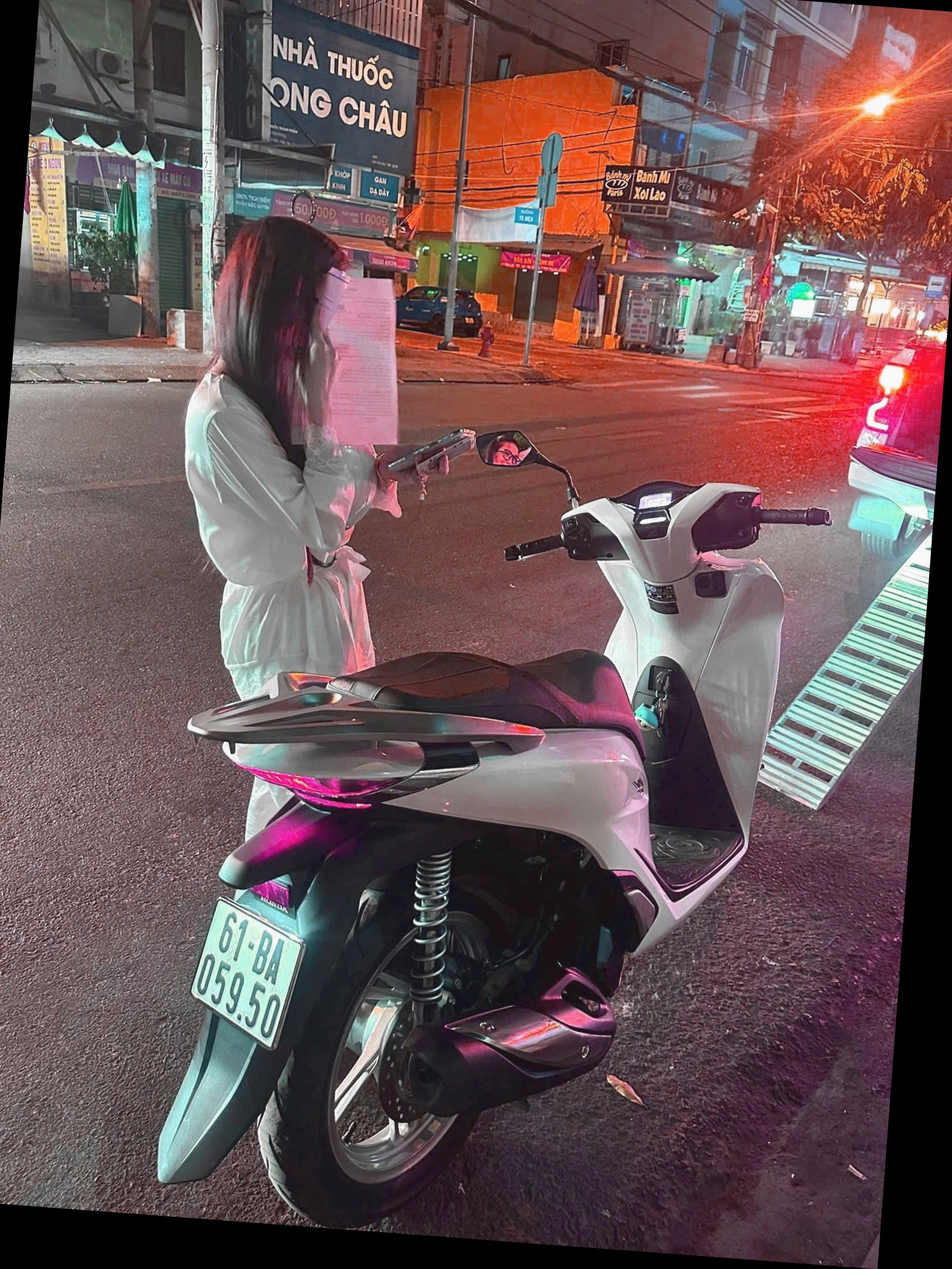Bien-so: (210, 948, 350, 1116)
